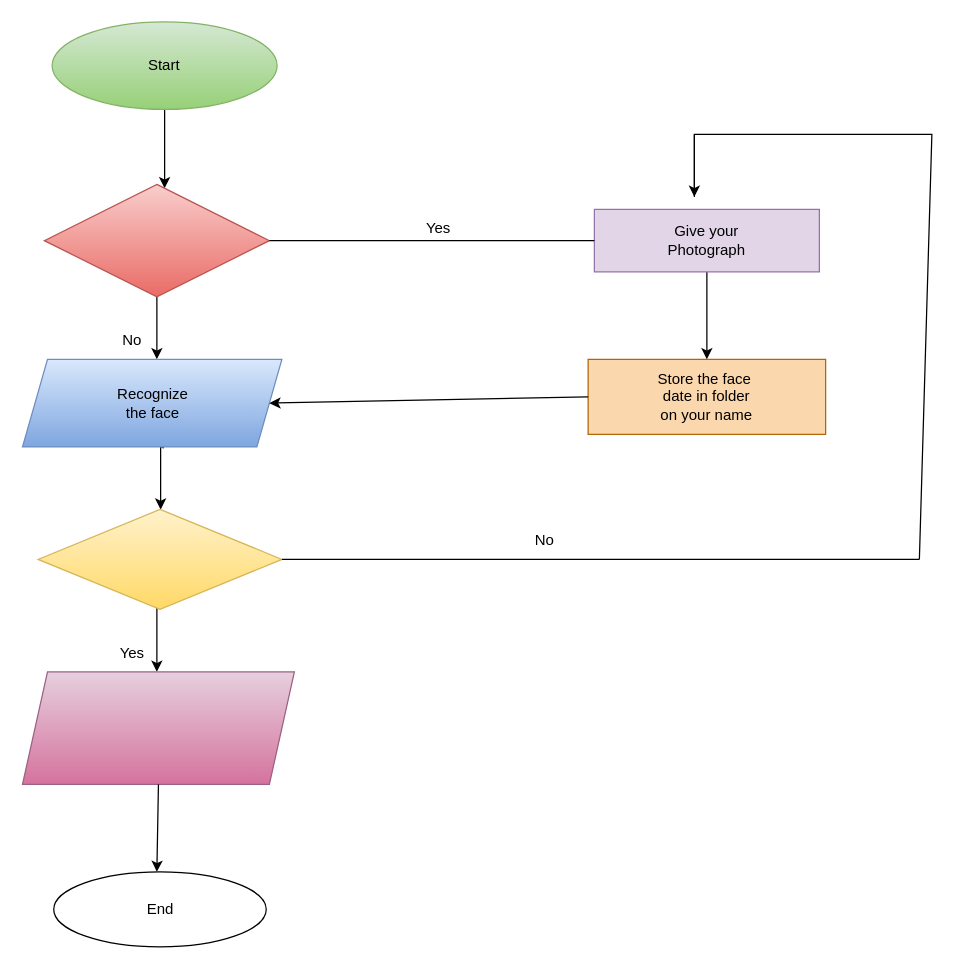
Image size: 955x969. Some labels were removed from this diagram. Each missing label, with the box of its shape:
Face Recongnized: (37, 508, 282, 609)
New User?: (43, 183, 269, 297)
Stored in CSV file with Registration Number & Date Time of Entry: (21, 671, 294, 784)
